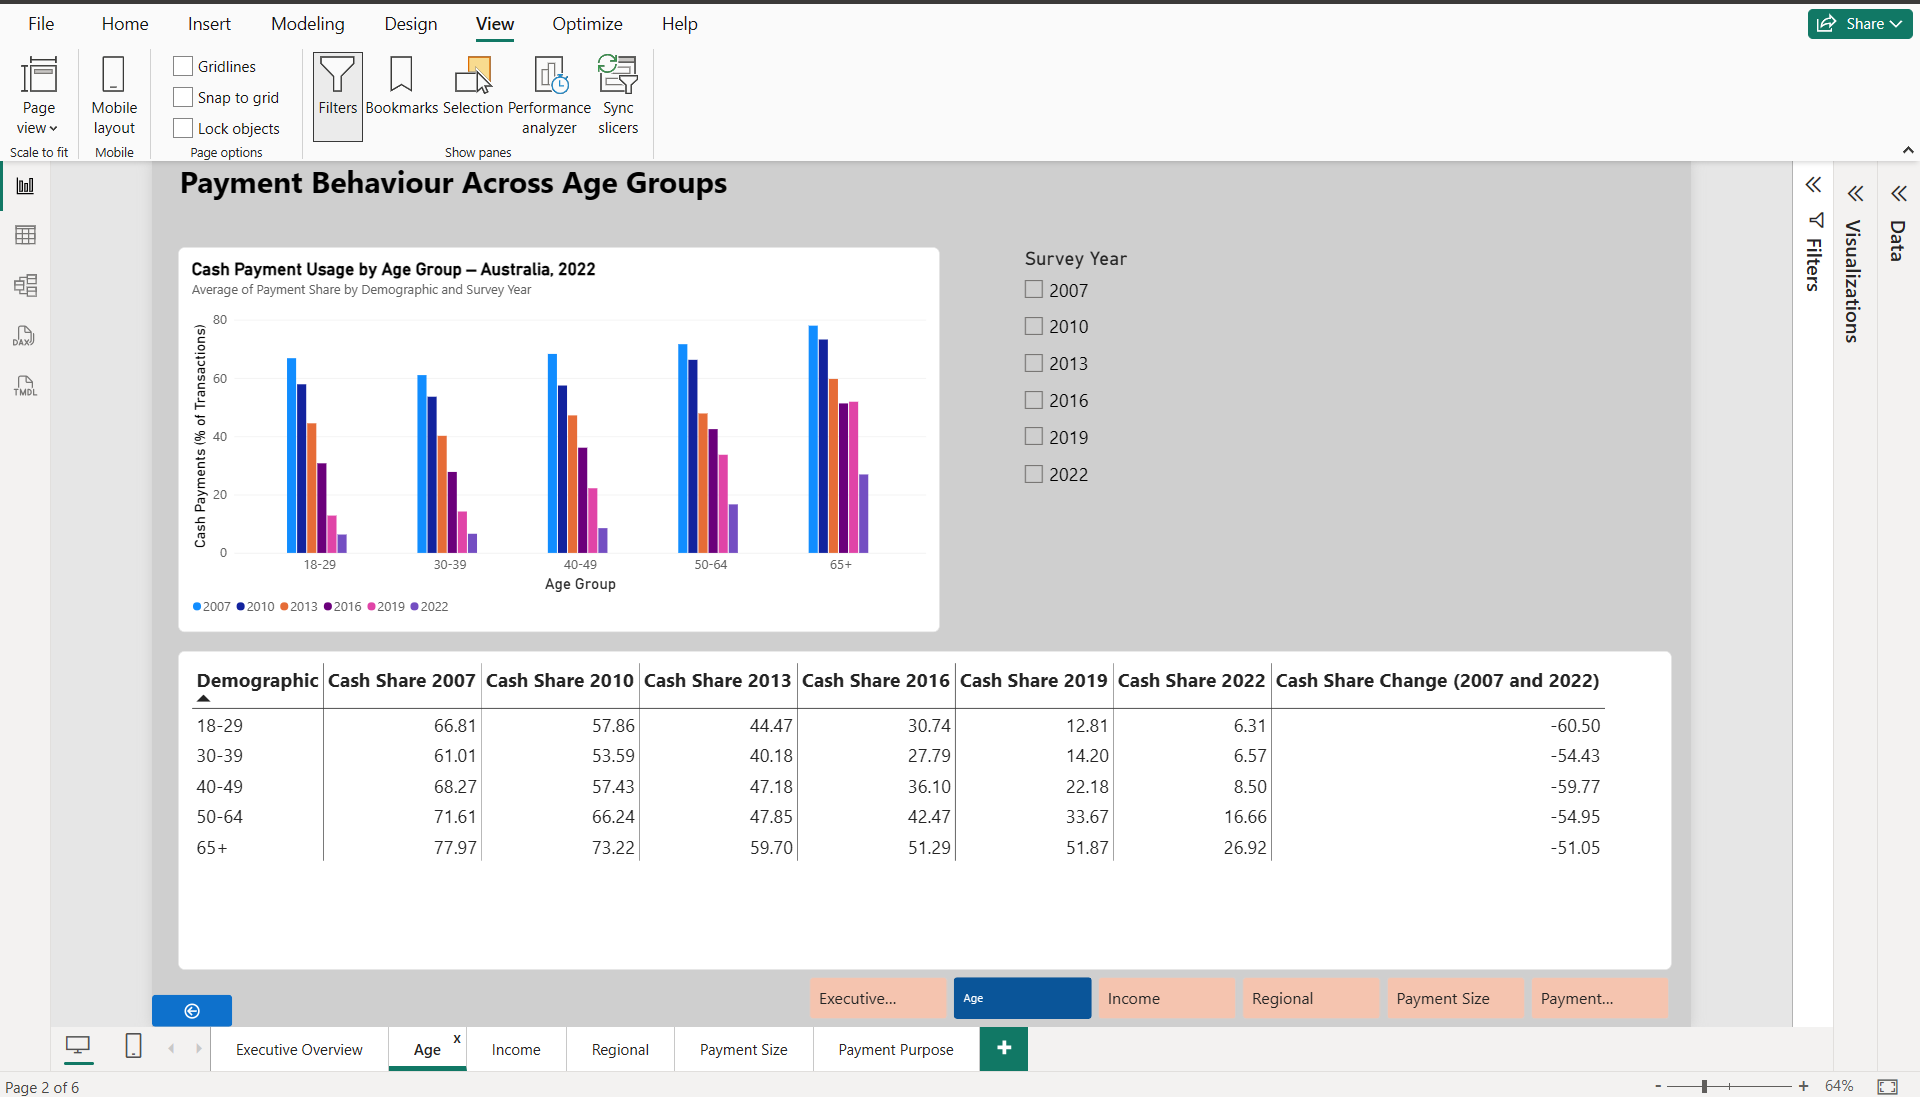

This screenshot's page, from the dashboard's own definition file:
{"tool":"powerbi","page":{"name":"Age","canvas":[1920,1080],"ordinal":1},"visuals":[{"type":"clusteredColumnChart","title":"Cash Payment Usage by Age Group – Australia, 2022","fields":{"Category":["Age.Demographic"],"Series":["Age.Survey Year"],"Y":["Avg(Age.Payment Share)"]},"box":[33.1,108.1,949.8,480],"z":1000},{"type":"tableEx","fields":{"Values":["Age.Demographic","Age.Cash Share 2007","Age.Cash Share 2010","Age.Cash Share 2013","Age.Cash Share 2016","Age.Cash Share 2019","Age.Cash Share 2022","Age.Cash Share Change (pp)"]},"box":[33.1,610.5,1862.8,397.7],"z":2000},{"type":"actionButton","box":[0,1040.2,100,40],"z":3000},{"type":"textbox","box":[33.6,0,1046.1,108],"z":5001},{"type":"pageNavigator","box":[819.9,1018.4,1076.7,52.5],"z":5002},{"type":"slicer","fields":{"Values":["Age.Survey Year"]},"box":[1079.7,108.1,164,308.7],"z":5004}]}

Visuals, with their boxes on the page's 1920x1080 design canvas (x1, y1, x2, y2). These are canvas units, not pixel positions in the 1920x1097 screenshot, which may show the page scaled, cropped or inside an application window:
"Cash Payment Usage by Age Group – Australia, 2022" clusteredColumnChart: 33:108:983:588
tableEx - Age.Demographic x Age.Cash Share 2007: 33:610:1896:1008
actionButton: 0:1040:100:1080
textbox: 34:0:1080:108
pageNavigator: 820:1018:1897:1071
slicer - Age.Survey Year: 1080:108:1244:417
